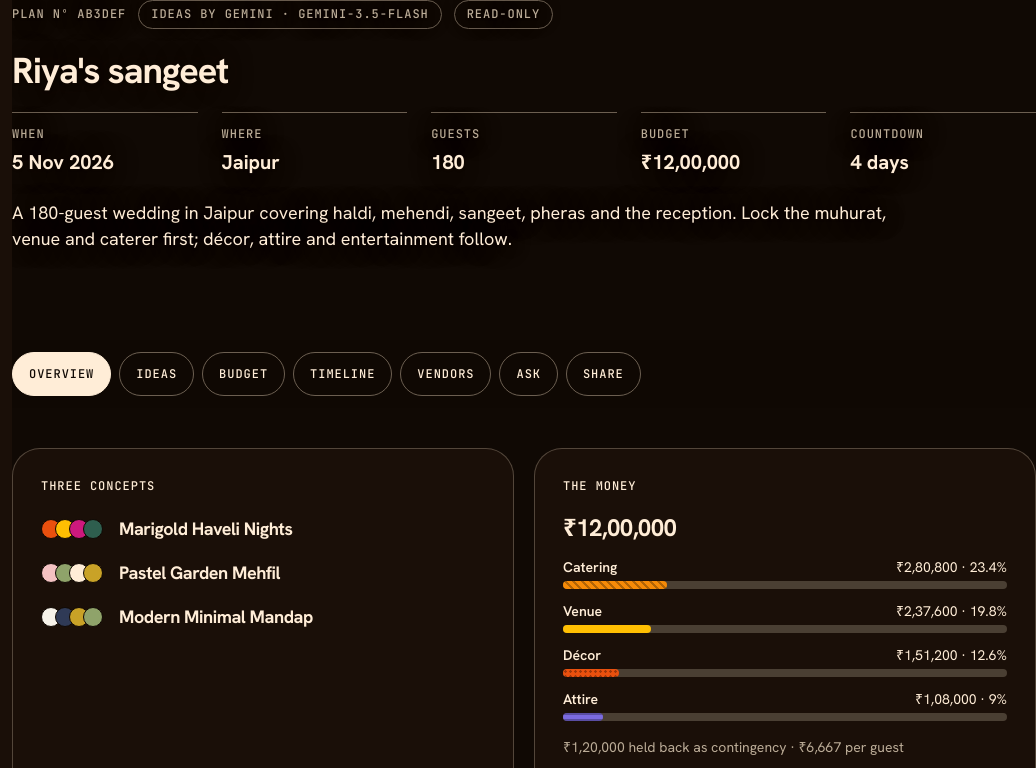
Test: PlanView › explains a compressed schedule once instead of flagging every task
This screenshot has width=1036, height=768.
Click the tab "Timeline": (343, 374) x1=293 y1=352 x2=392 y2=396
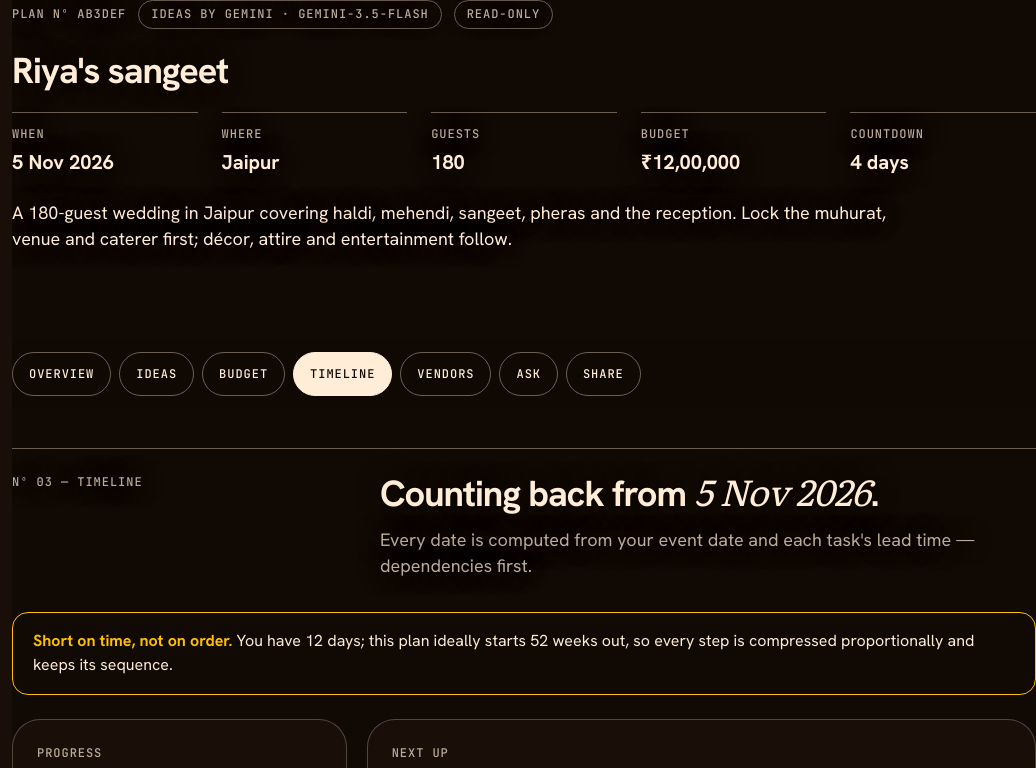
Check: the element that starts with "Short on time, not on order." shows "compressed proportionally", box x1=33 y1=630 x2=974 y2=675
